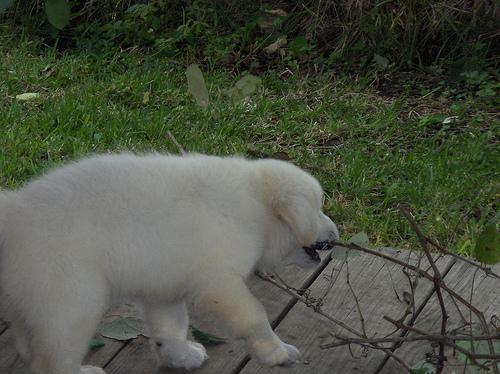Great_Pyrenees: (0, 153, 340, 373)
